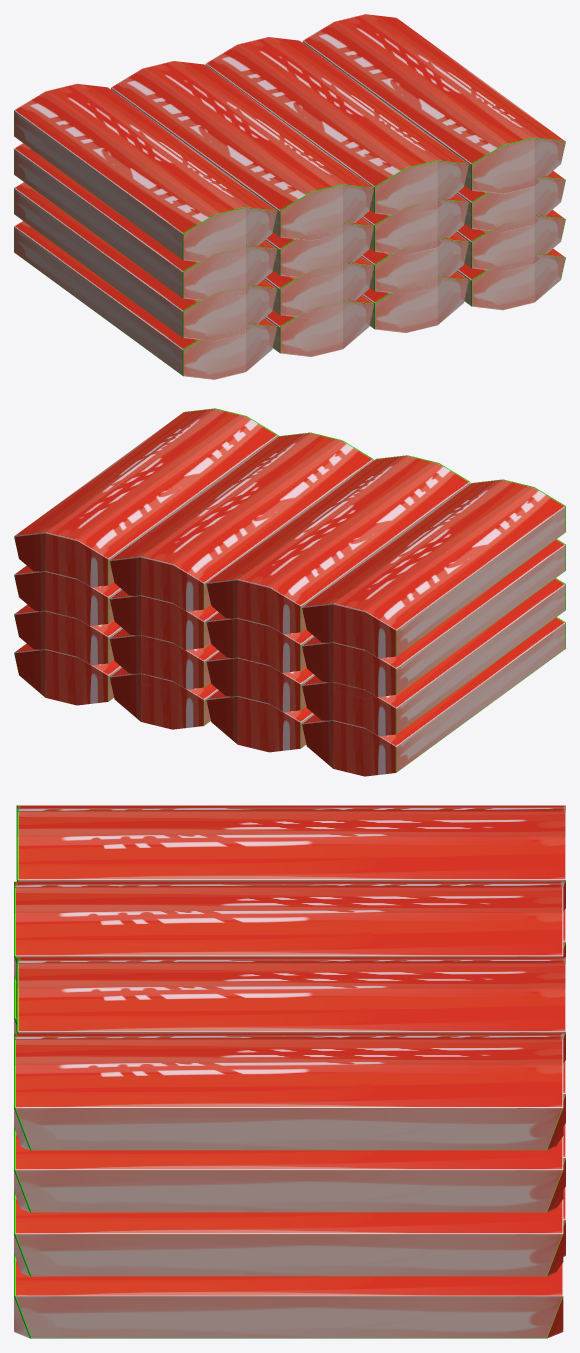
Rendered from Crab meats.FBX.
3 views of the same model, one above another, from view 1: azimuth 30°, elevation 25°; view 2: azimuth 150°, elevation 25°; view 3: azimuth 270°, elevation 25° (orthographic). The views are drawn at different scales.
Visible parts, largest first — view 1: 맛살; view 2: 맛살; view 3: 맛살.
Boxes of the visible parts, x1,y1,x2,y2 form: 맛살: (14, 14, 565, 379); 맛살: (14, 408, 565, 776); 맛살: (14, 805, 565, 1338).
Size of the model in its own units: 14.23 by 5.87 by 10.98.
